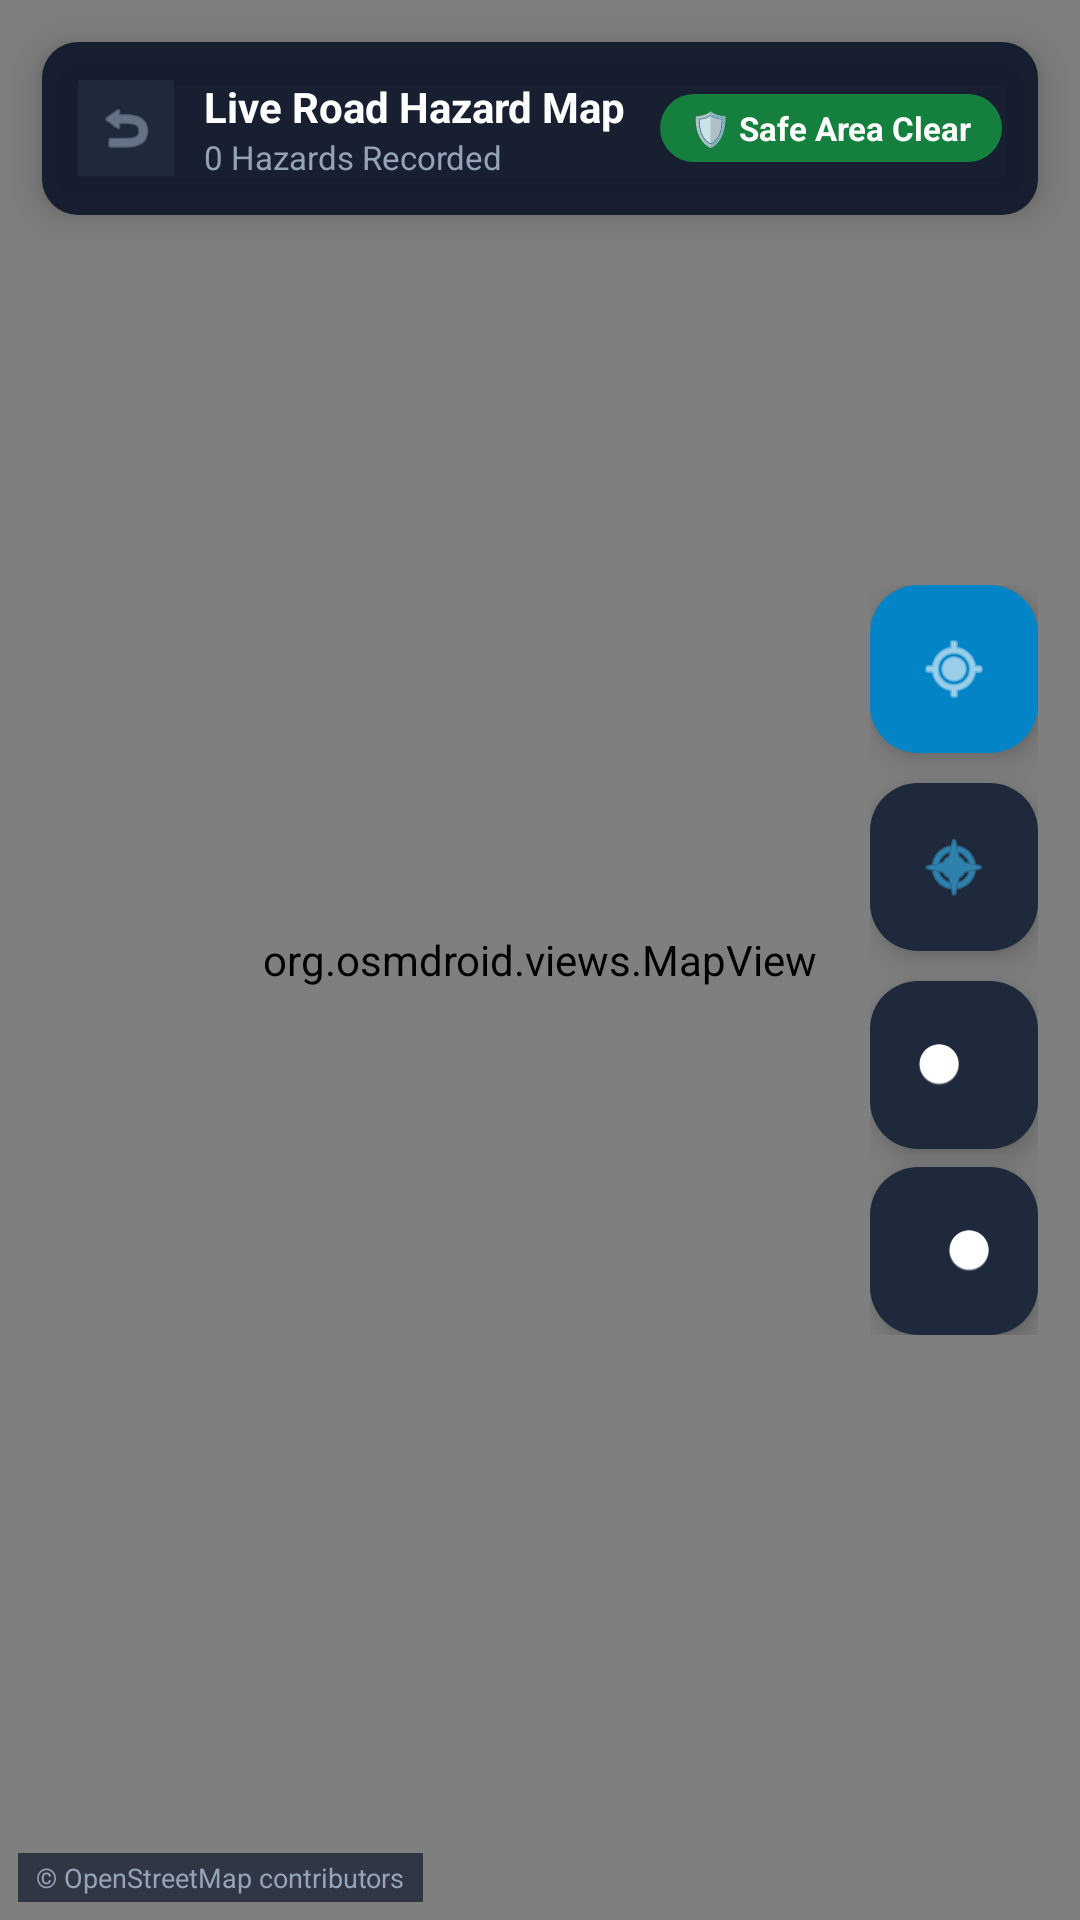

Locate icon controls on the screen. Image size 1080 x 1920, boxes as (x1, y1, x2, y2).
Locate Me: (870, 585, 1038, 753)
revert: (105, 109, 149, 148)
